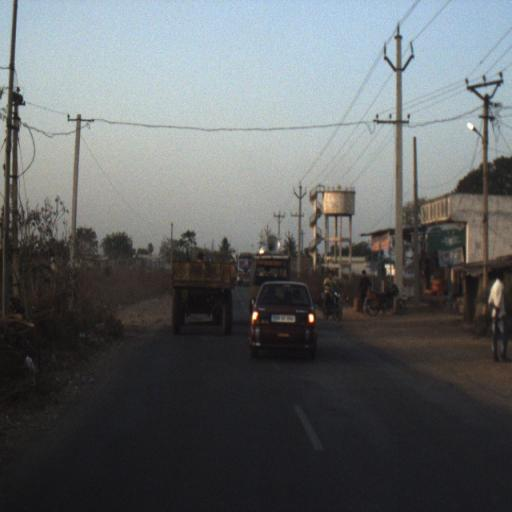street_light_0: (467, 122, 489, 155)
